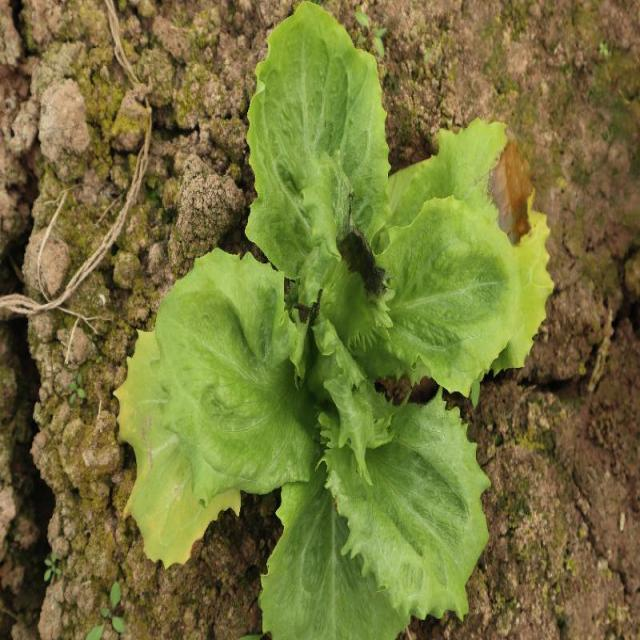crop: (120, 0, 491, 640)
